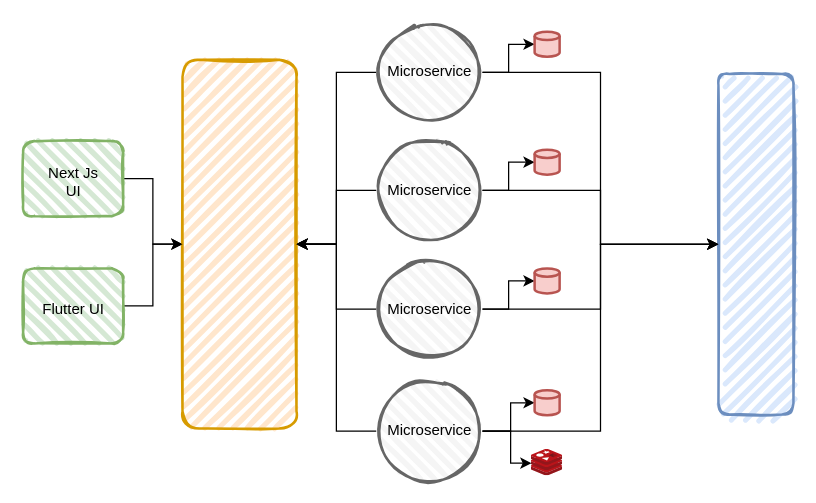
Image size: 816x503. Some labels were removed from this diagram. The shapes that lost their labels are listed below. From the top down, each one's box as (x1, y1, x2, y2) in pixels, then its label:
(181, 58, 297, 429): Gateway GraphQL
(717, 72, 794, 415): Kafka Broker
